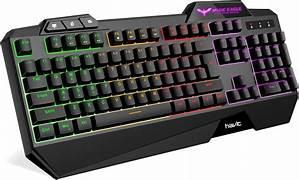keyboard: (0, 0, 297, 178)
